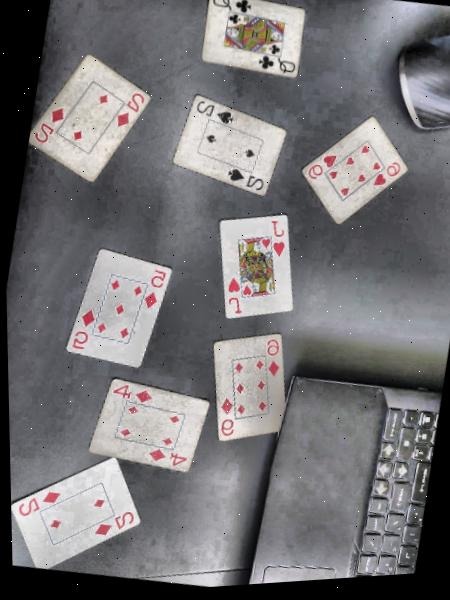2D: (84, 501, 150, 549), (11, 476, 66, 525), (108, 80, 157, 133), (26, 96, 72, 149)
2P: (220, 164, 273, 197), (188, 98, 234, 125)
4D: (106, 377, 157, 410), (142, 441, 192, 473)
5D: (62, 298, 100, 358), (136, 260, 173, 314)
6C: (299, 144, 348, 191), (367, 150, 409, 197)
6D: (207, 394, 237, 448), (258, 334, 285, 377)
JC: (219, 269, 245, 320), (262, 209, 289, 258)
QT: (248, 43, 303, 79), (206, 0, 256, 16)
